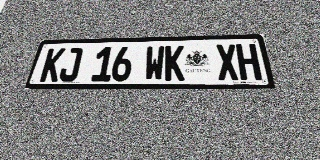1: (91, 47, 115, 81)
6: (110, 46, 133, 81)
H: (235, 44, 262, 80)
J: (58, 48, 83, 82)
K: (39, 48, 66, 82), (164, 45, 185, 81)
W: (144, 46, 165, 81)
X: (215, 44, 240, 80)
